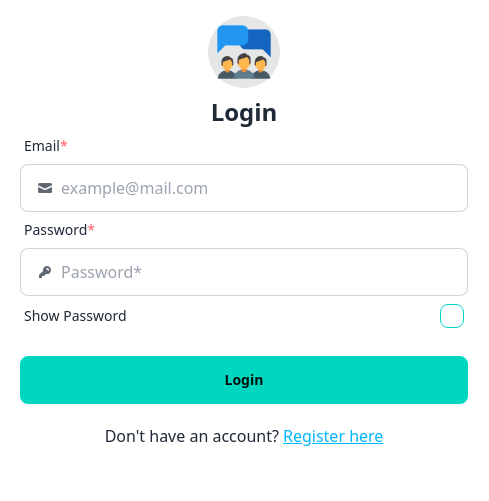
it: Login spec › should render alert when email is empty
The width and height of the screenshot is (489, 501).
Type "secret_password" into the password field with placeholder "Password*" at coordinates (256, 272), box [61,260,451,284]
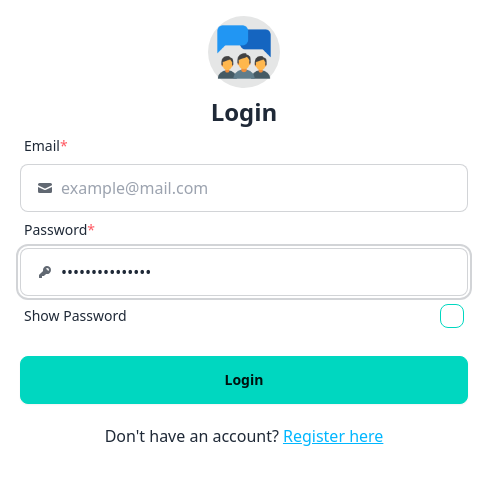
Click the button "Login" at coordinates (244, 380), box [20,356,468,404]
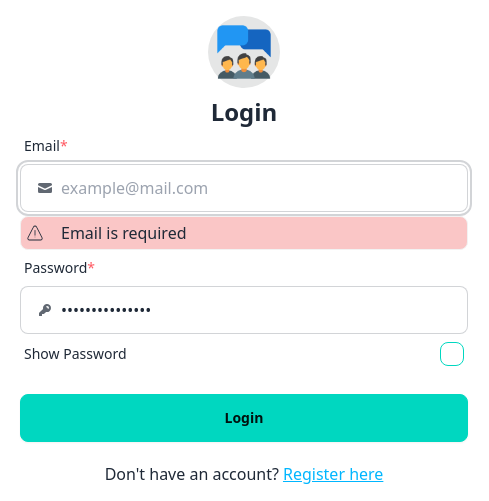
Expected: the element showing "Email*" is shown, [24,136,68,156]
Now the text "Email is required" is shown, box [61,221,186,245]
